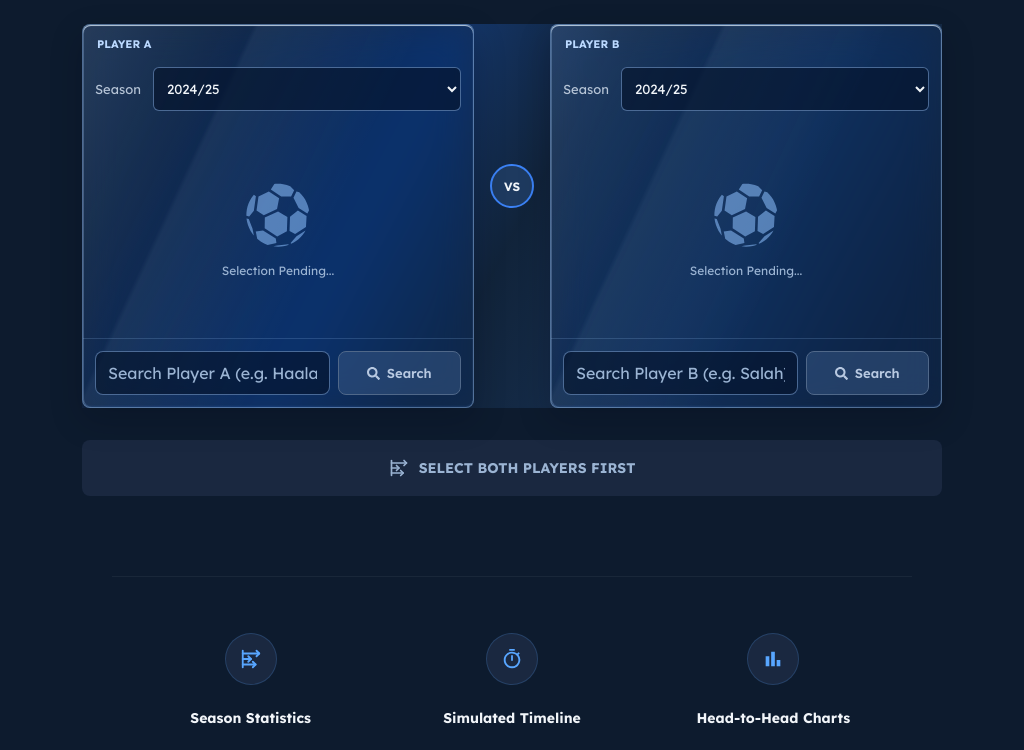
network failure stops loading and retry succeeds
(page scrolled)
In the field labelled "Player A": [212, 373] box top-left (95, 351), bottom-right (330, 395), type "Player One"
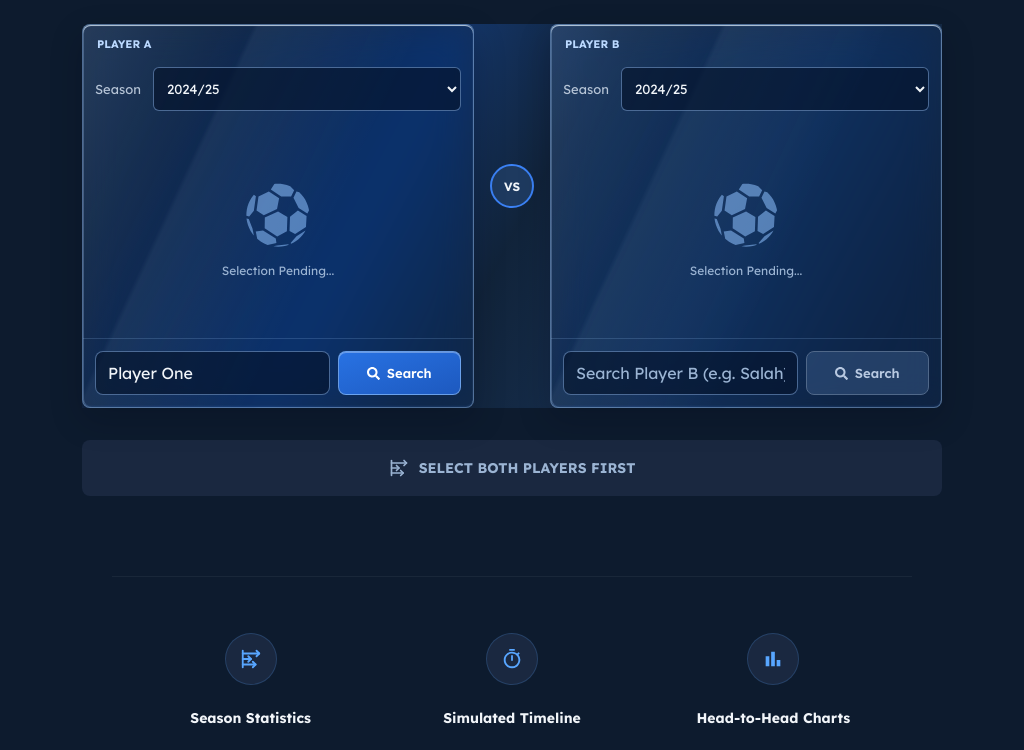
Click the button with aria-label "Search Player A": [399, 373] box top-left (338, 351), bottom-right (461, 395)
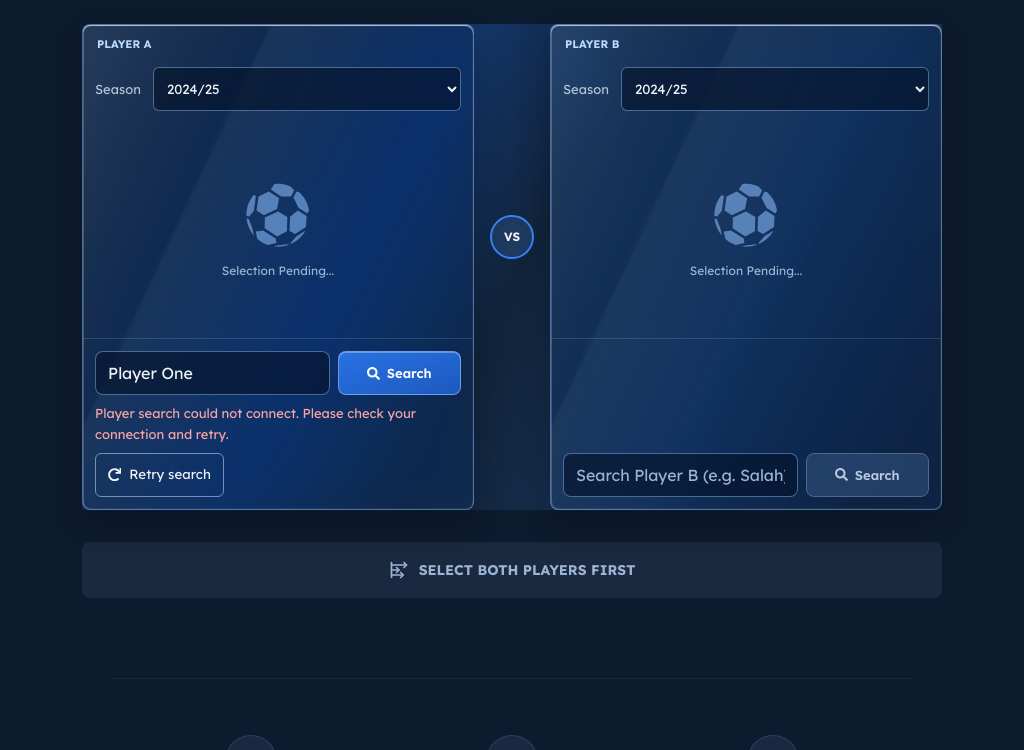
Check: the button with aria-label "Search Player A" is enabled, box top-left (338, 351), bottom-right (461, 395)
Check: the message shows "could not connect", box top-left (95, 405), bottom-right (416, 442)
Click the button "Retry search": [159, 475] box top-left (95, 453), bottom-right (224, 497)
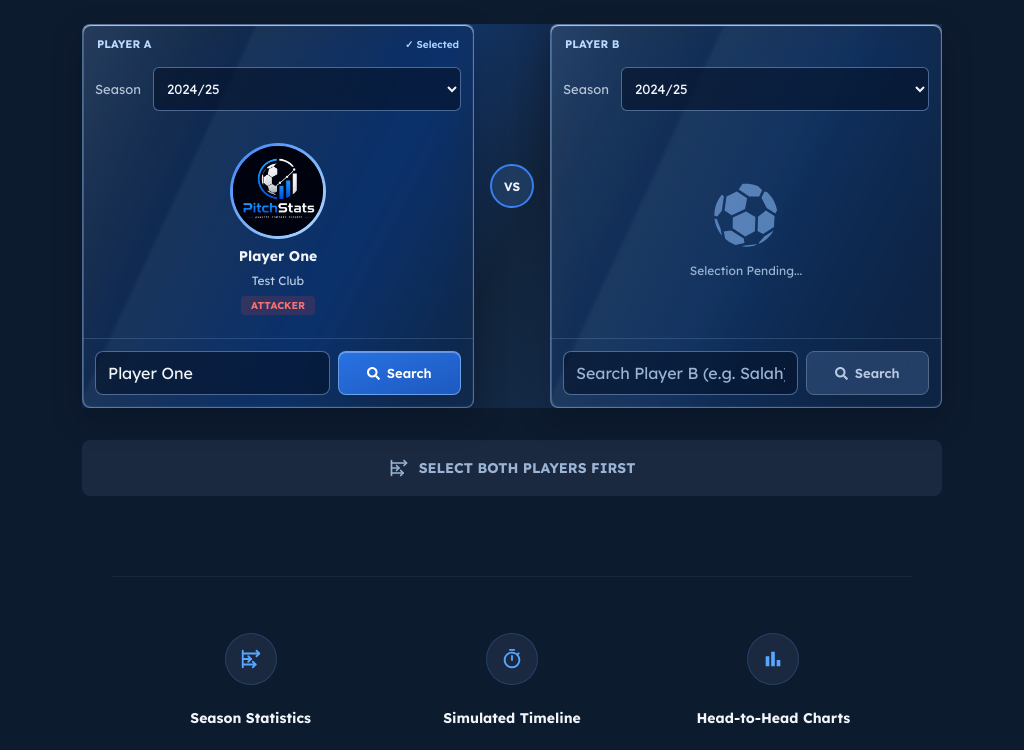
Check: the heading "Player One" is shown, box top-left (239, 247), bottom-right (317, 265)
